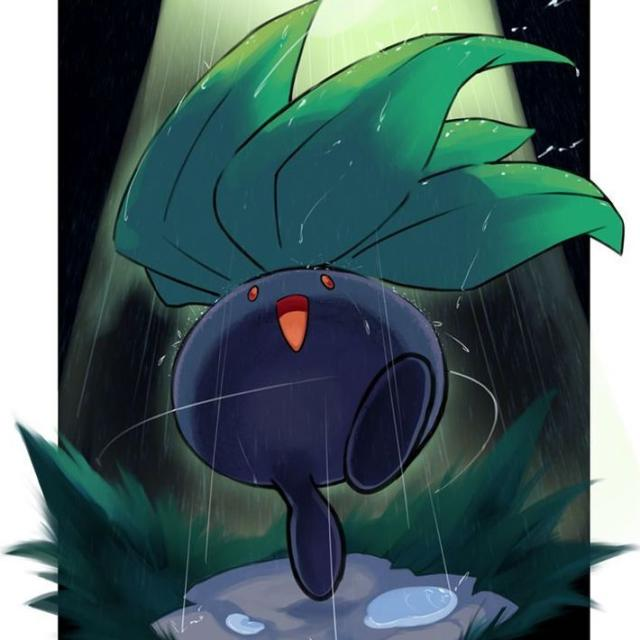Oddish: (167, 126, 451, 521)
